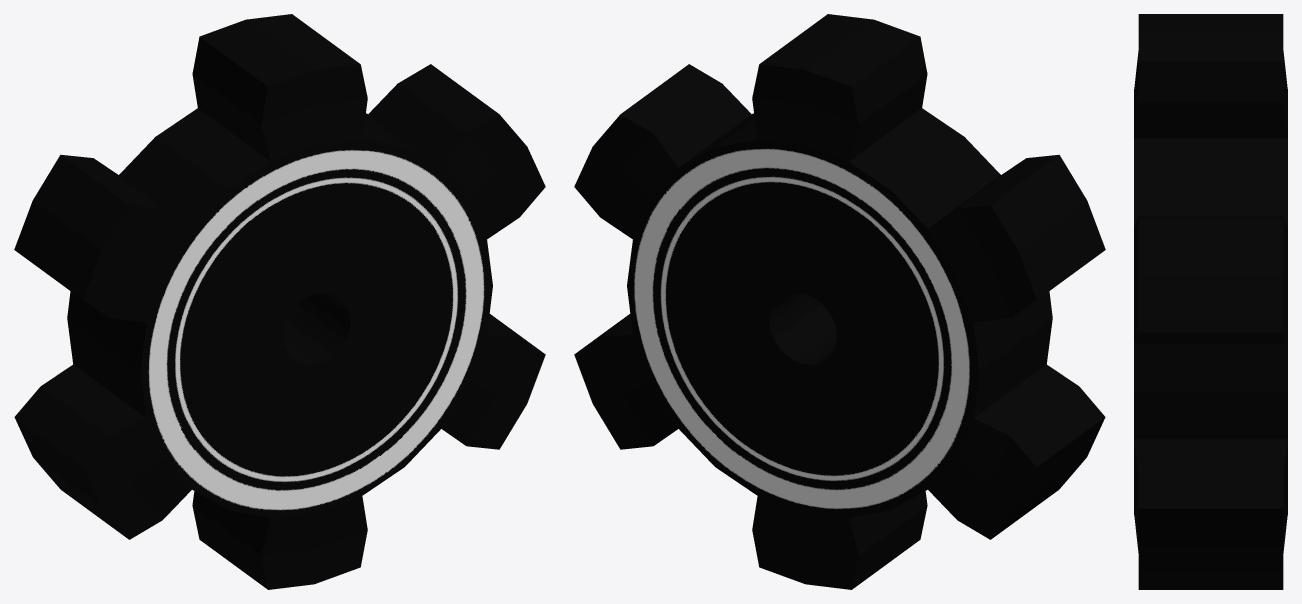
File: Gear_S.obj
The picture shows the model from 3 angles, left to right: view 1: azimuth 30°, elevation 25°; view 2: azimuth 150°, elevation 25°; view 3: azimuth 270°, elevation 25°; orthographic projection. The views are drawn at different scales.
Visible parts, largest first — view 1: Gear_S; view 2: Gear_S; view 3: Gear_S.
Boxes of the visible parts, x1,y1,x2,y2 form: Gear_S: (14,14,545,589); Gear_S: (574,14,1105,589); Gear_S: (1134,14,1287,589).
Size of the model in its own units: 3.28 by 3.48 by 0.9.
1 material, 1 textured.
